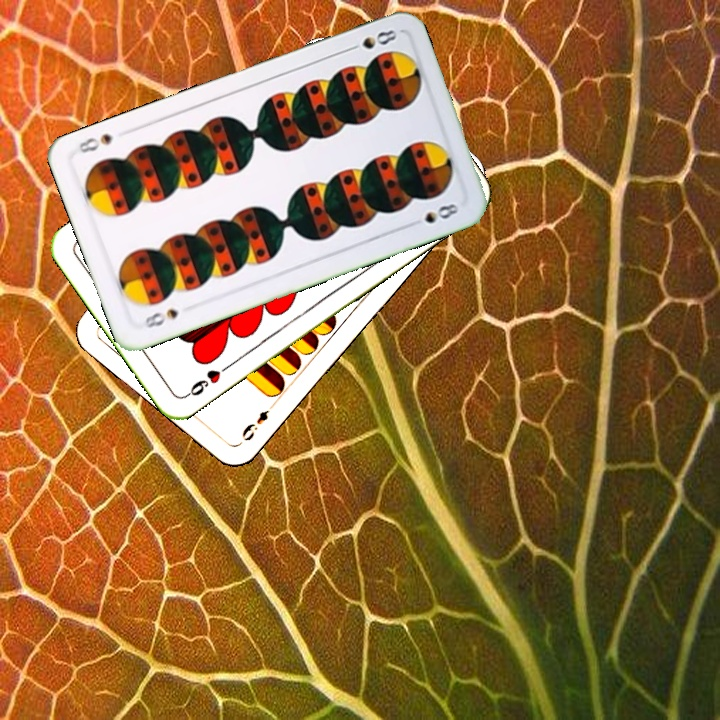E9: (237, 398, 278, 444)
H9: (180, 361, 232, 401)
S8: (342, 22, 400, 55), (137, 305, 181, 332)
